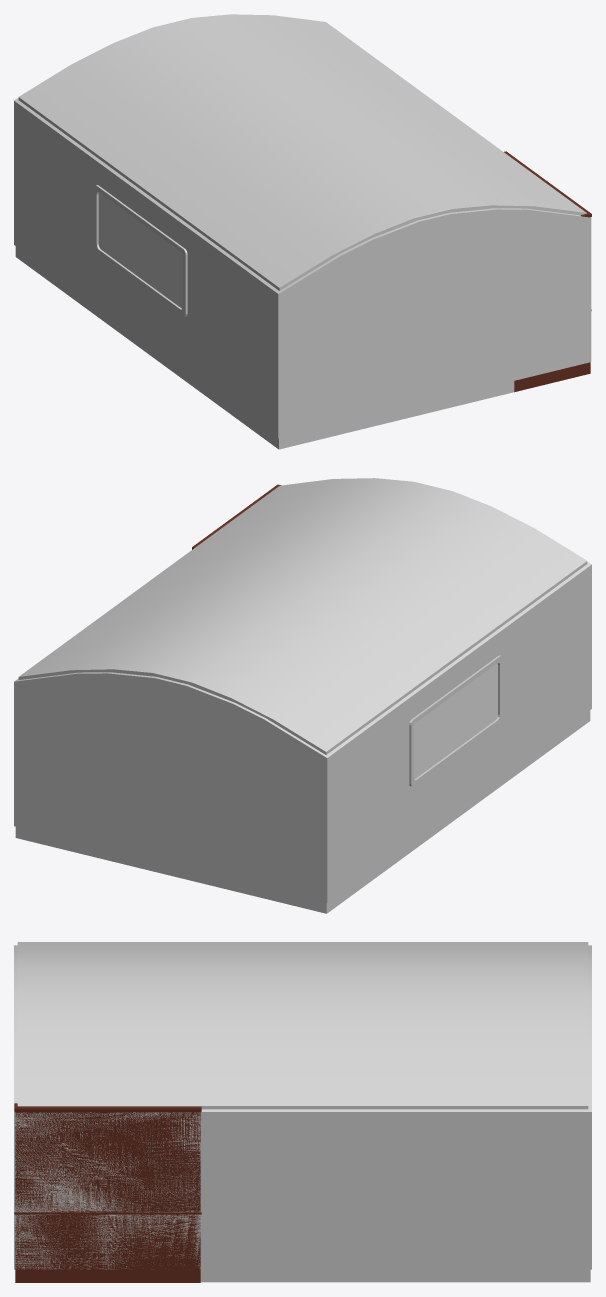
The model's file is НЕ ИСПОЛЬЗОВАТЬ И НЕ УДАЛЯТЬ2.fbx.
The picture shows the model from 3 angles, top to bottom: view 1: azimuth 30°, elevation 25°; view 2: azimuth 150°, elevation 25°; view 3: azimuth 270°, elevation 25°; orthographic projection. The views are drawn at different scales.
Parts seen in each view (by area): view 1: Vagon, Cupboard; view 2: Vagon; view 3: Vagon, Cupboard.
Boxes of the visible parts, left/top/right/bottom form: Vagon: left=14, top=14, right=591, bottom=449; Cupboard: left=504, top=151, right=591, bottom=392; Vagon: left=14, top=478, right=591, bottom=913; Vagon: left=14, top=942, right=591, bottom=1282; Cupboard: left=14, top=1103, right=201, bottom=1282.
Size of the model in its own units: 413 by 247 by 600.
